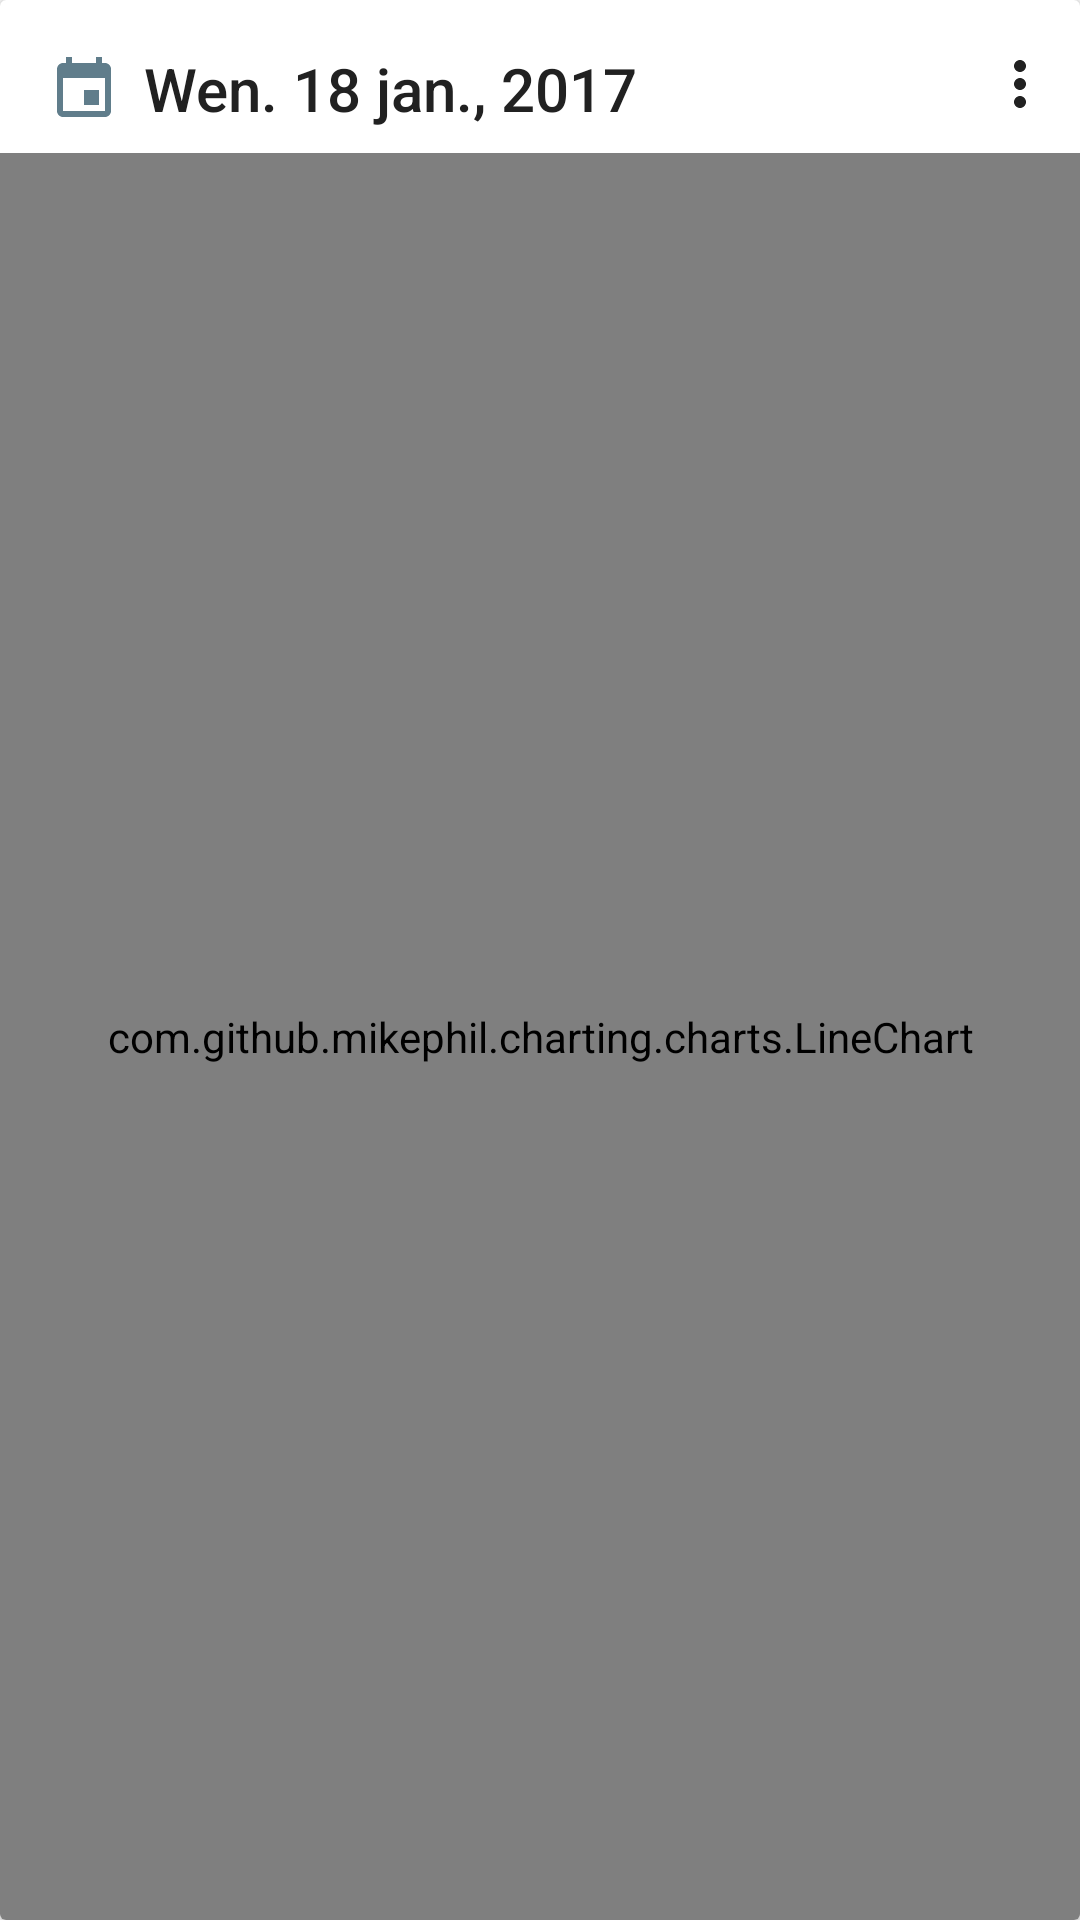

Locate icon controls on the screen. Image size 1080w x 1920h, boxes as (x1,y1,x2,y2).
Date: (57,57,111,117)
More…: (1014,60,1026,108)
